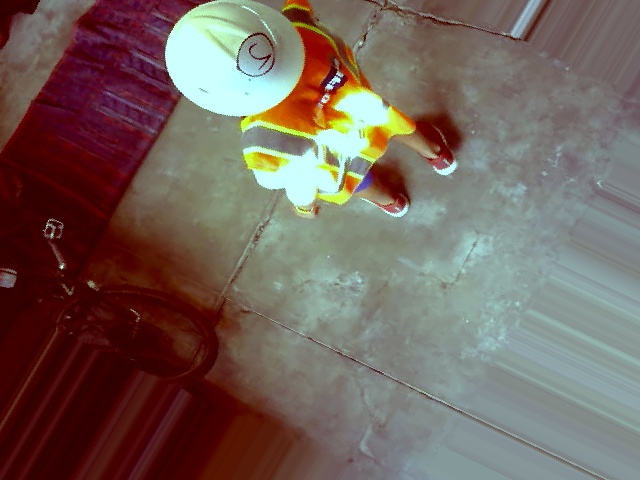two: (226, 27, 285, 83)
